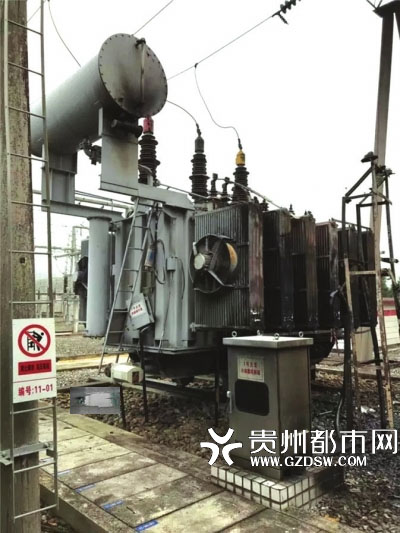oil: (86, 479, 162, 530), (69, 387, 121, 414), (59, 462, 101, 495)
